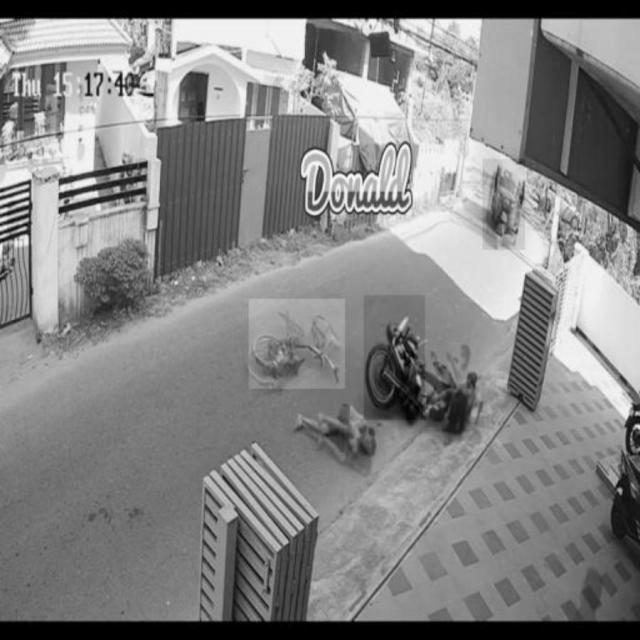vehicle: (249, 299, 345, 389), (364, 295, 425, 419), (483, 159, 525, 250)
